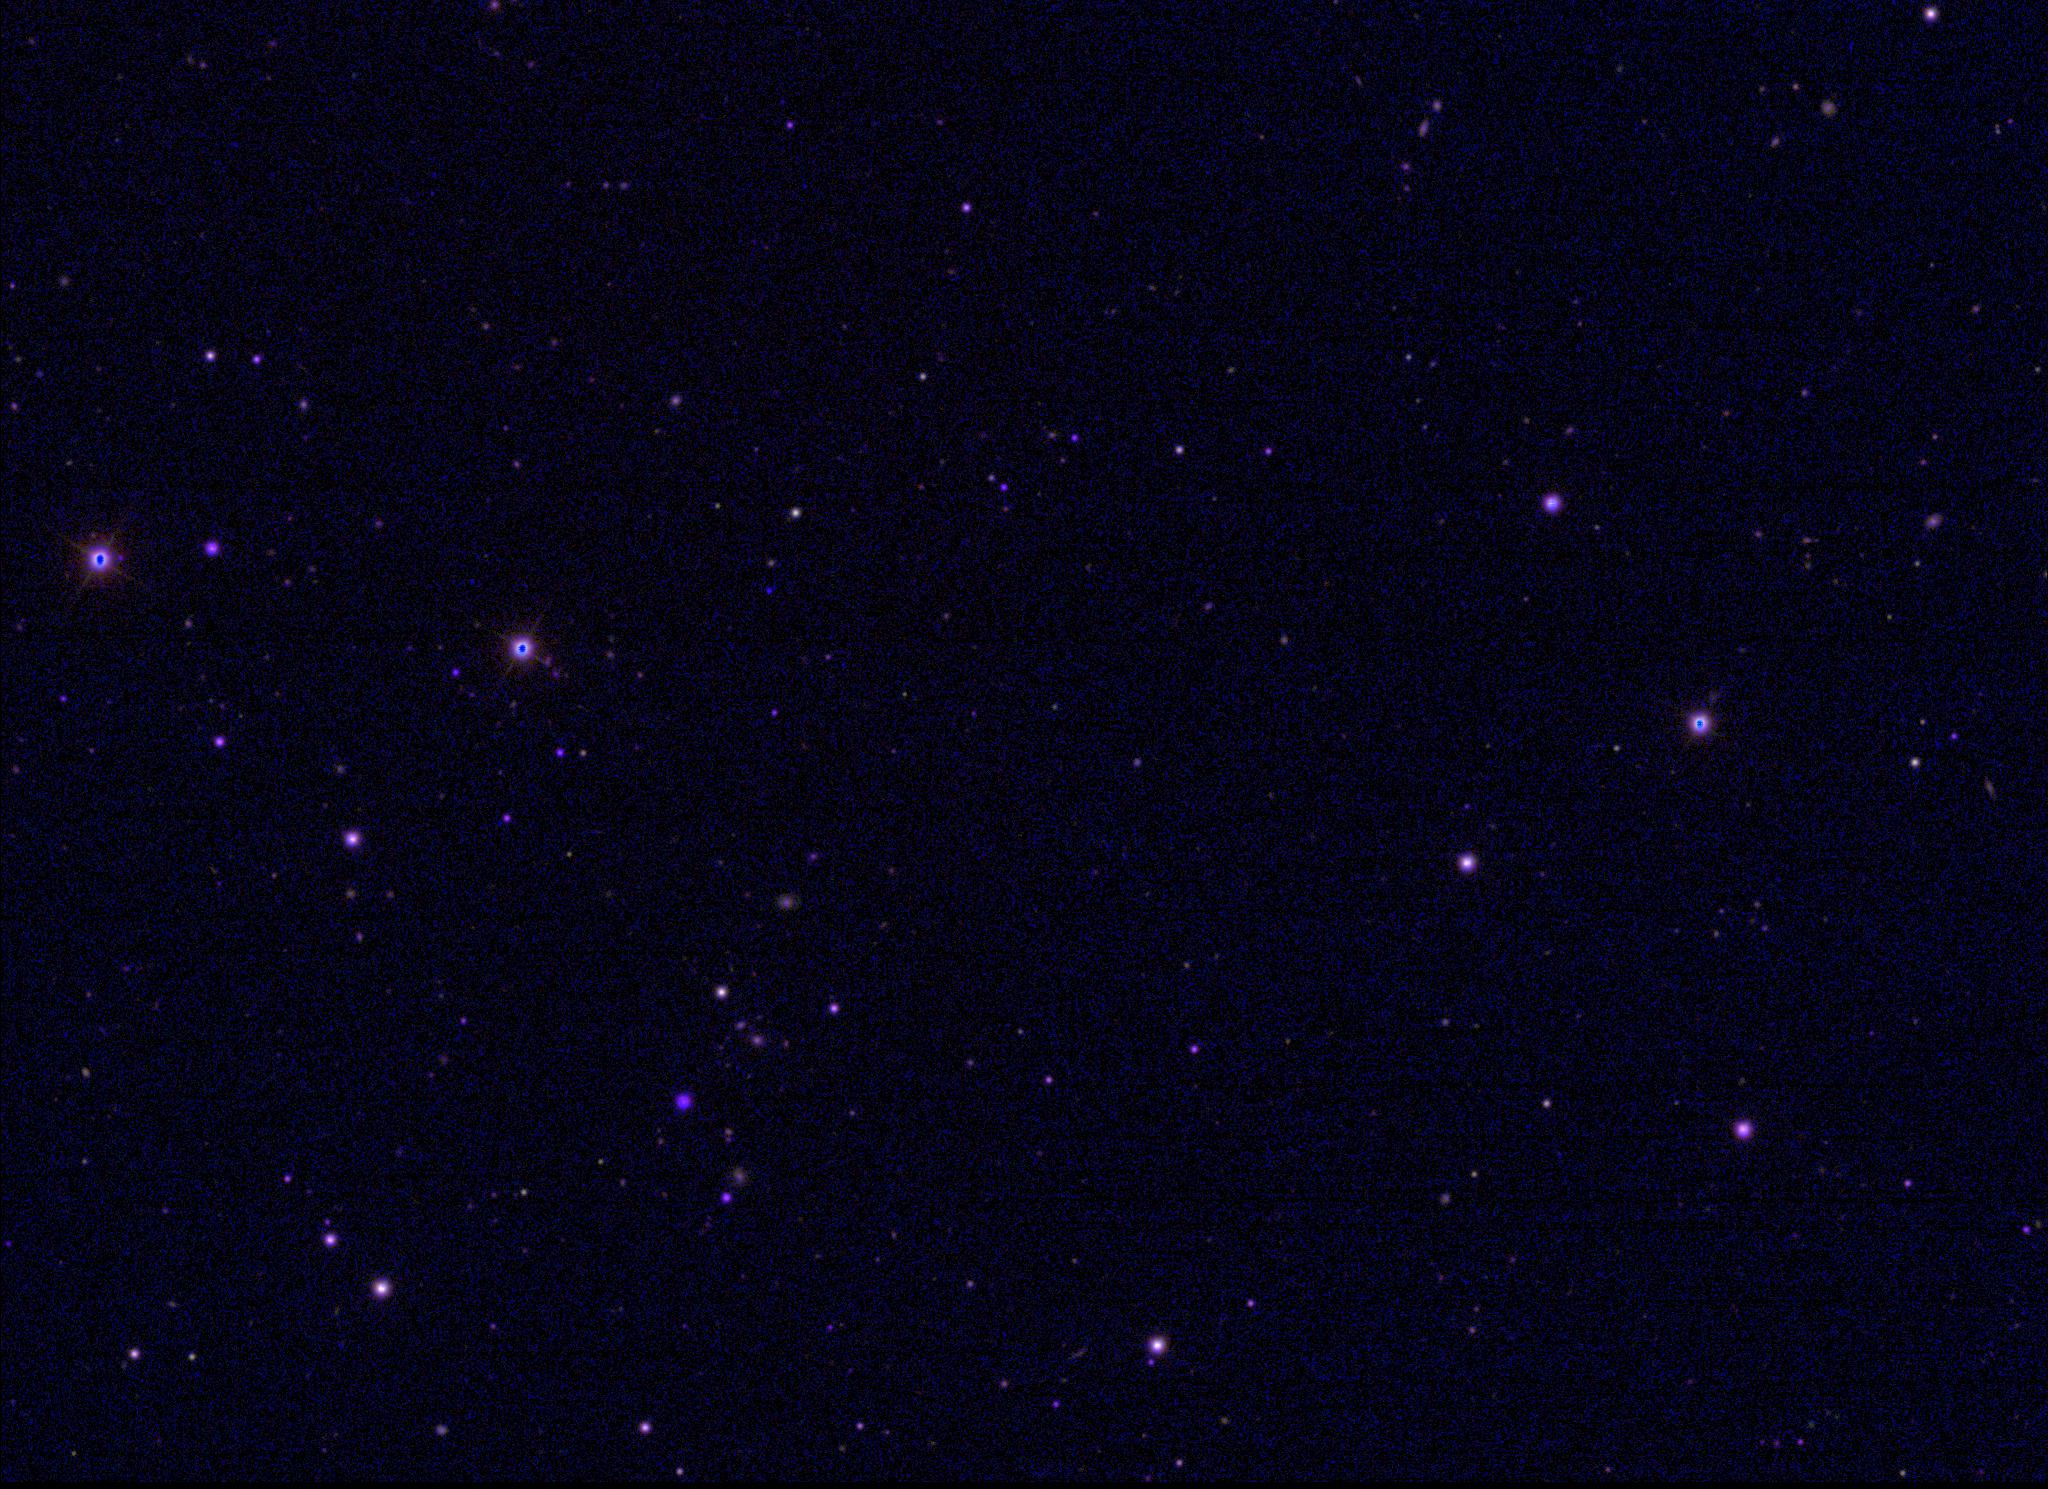L: (760, 582, 774, 597)
